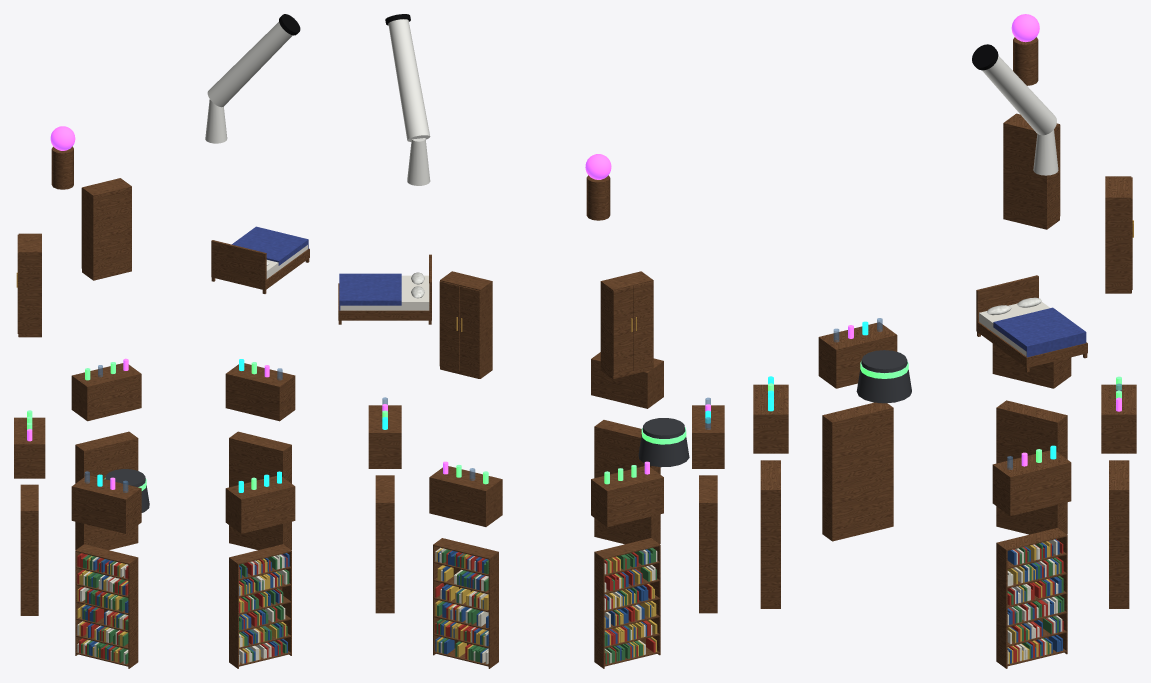
The model's file is i_wizard_tower.gltf.
The picture shows the model from 3 angles, left to right: view 1: azimuth 30°, elevation 25°; view 2: azimuth 150°, elevation 25°; view 3: azimuth 270°, elevation 25°; orthographic projection. The views are drawn at different scales.
Parts seen in each view (by area): view 1: I_wizard_tower; view 2: I_wizard_tower; view 3: I_wizard_tower.
Part boxes in pixels (x1,y1,x2,y2): I_wizard_tower: (14, 14, 309, 668); I_wizard_tower: (338, 14, 724, 668); I_wizard_tower: (753, 14, 1136, 668).
Bounding box in the file's own units: 7.84 × 13.44 × 7.6.
Materials: 17 (4 with a texture image).
